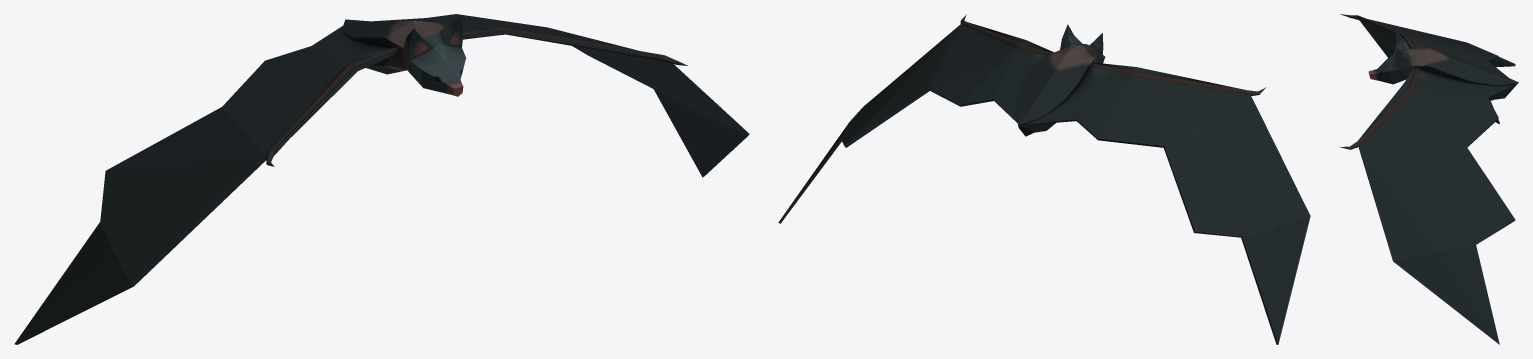
The model's file is bat.glb.
The picture shows the model from 3 angles, left to right: view 1: azimuth 30°, elevation 25°; view 2: azimuth 150°, elevation 25°; view 3: azimuth 270°, elevation 25°; orthographic projection. The views are drawn at different scales.
Parts seen in each view (by area): view 1: node-0; view 2: node-0; view 3: node-0.
Boxes of the visible parts, box(x1,y1,x2,y2) form: node-0: box(14, 14, 749, 344); node-0: box(778, 14, 1310, 344); node-0: box(1339, 14, 1518, 344).
Bounding box in the file's own units: 5.06 × 2.08 × 1.73.
1 material, 1 textured.
